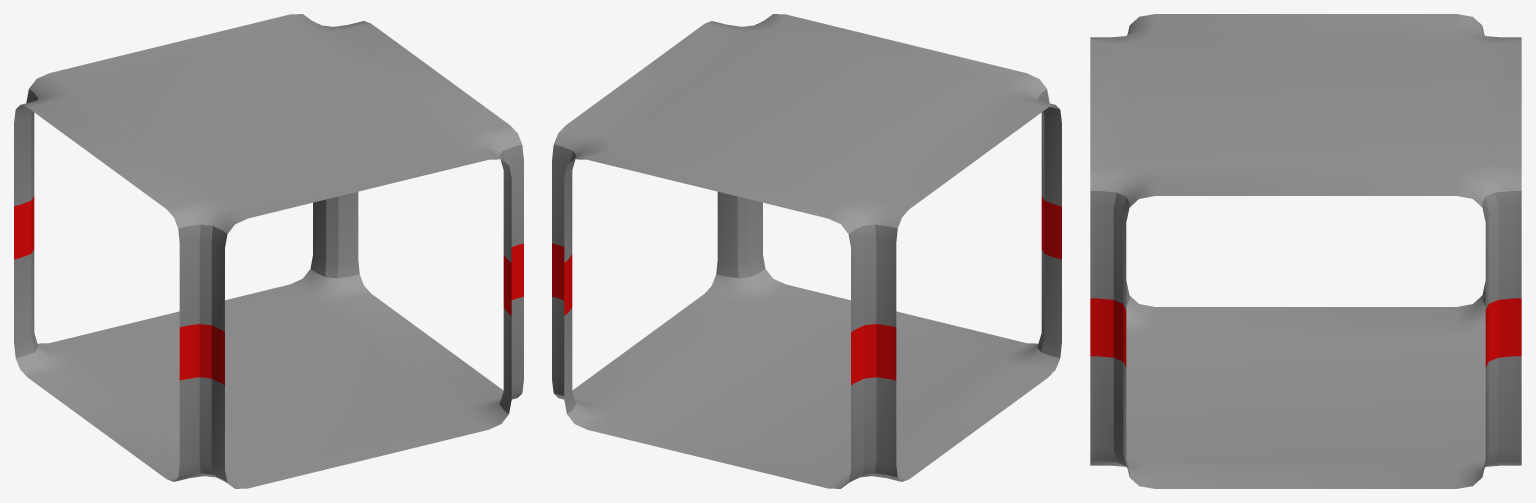
File: HallWay_XIntersection_001.FBX
3 views of the same model, side by side, from view 1: azimuth 30°, elevation 25°; view 2: azimuth 150°, elevation 25°; view 3: azimuth 270°, elevation 25° (orthographic). The views are drawn at different scales.
Parts seen in each view (by area): view 1: HallWay_XIntersection_001; view 2: HallWay_XIntersection_001; view 3: HallWay_XIntersection_001.
Part boxes in pixels (box(x1,y1,x2,y2)): HallWay_XIntersection_001: box(14, 14, 523, 488); HallWay_XIntersection_001: box(552, 14, 1061, 488); HallWay_XIntersection_001: box(1090, 14, 1521, 488).
Bounding box in the file's own units: 3 × 2.25 × 3.
